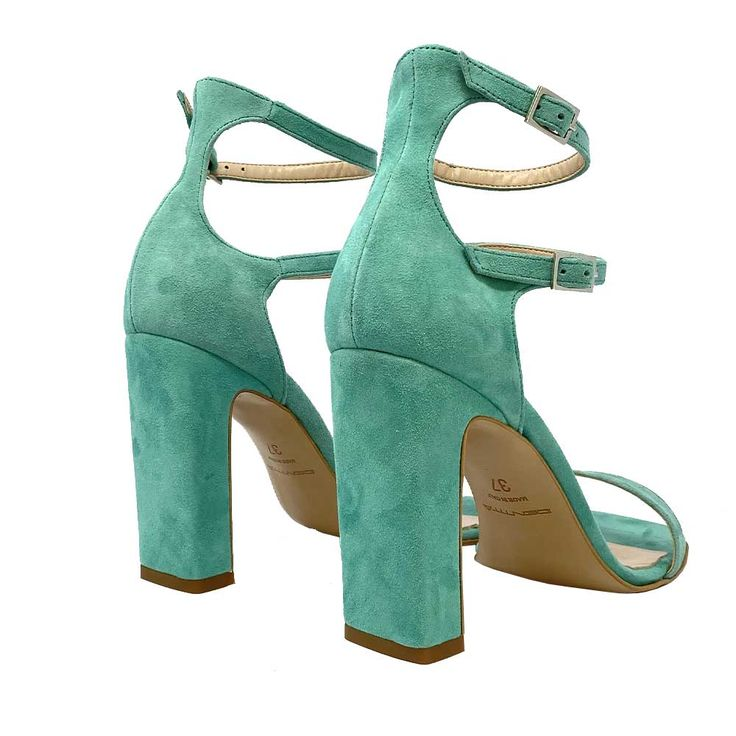gamuza: (120, 45, 686, 647)
